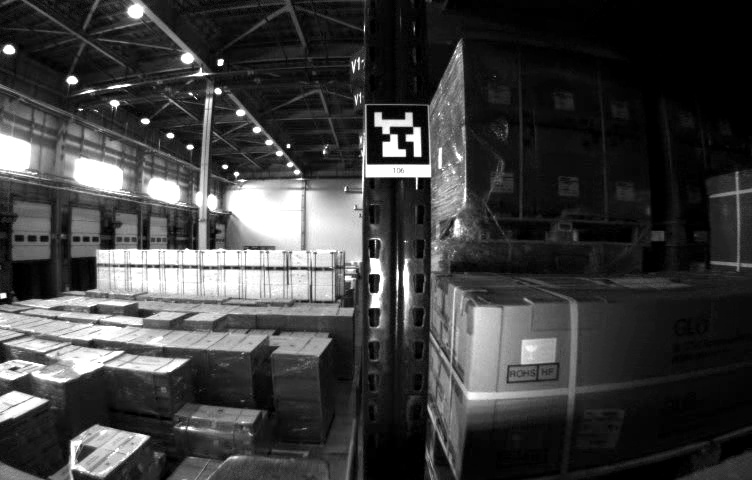True Barcode: (577, 408, 624, 451)
